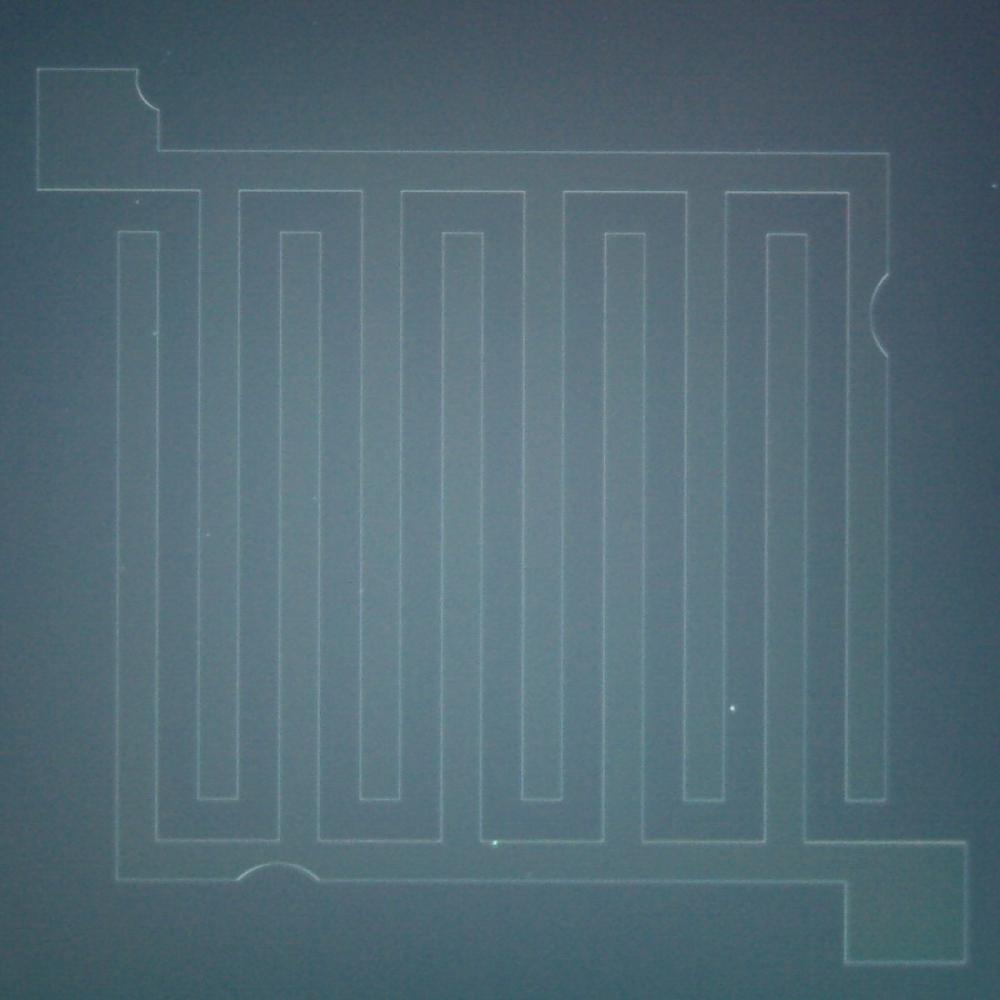dot: (991, 184, 997, 190), (135, 200, 139, 205), (730, 706, 735, 710), (493, 841, 497, 845), (153, 332, 157, 335)
